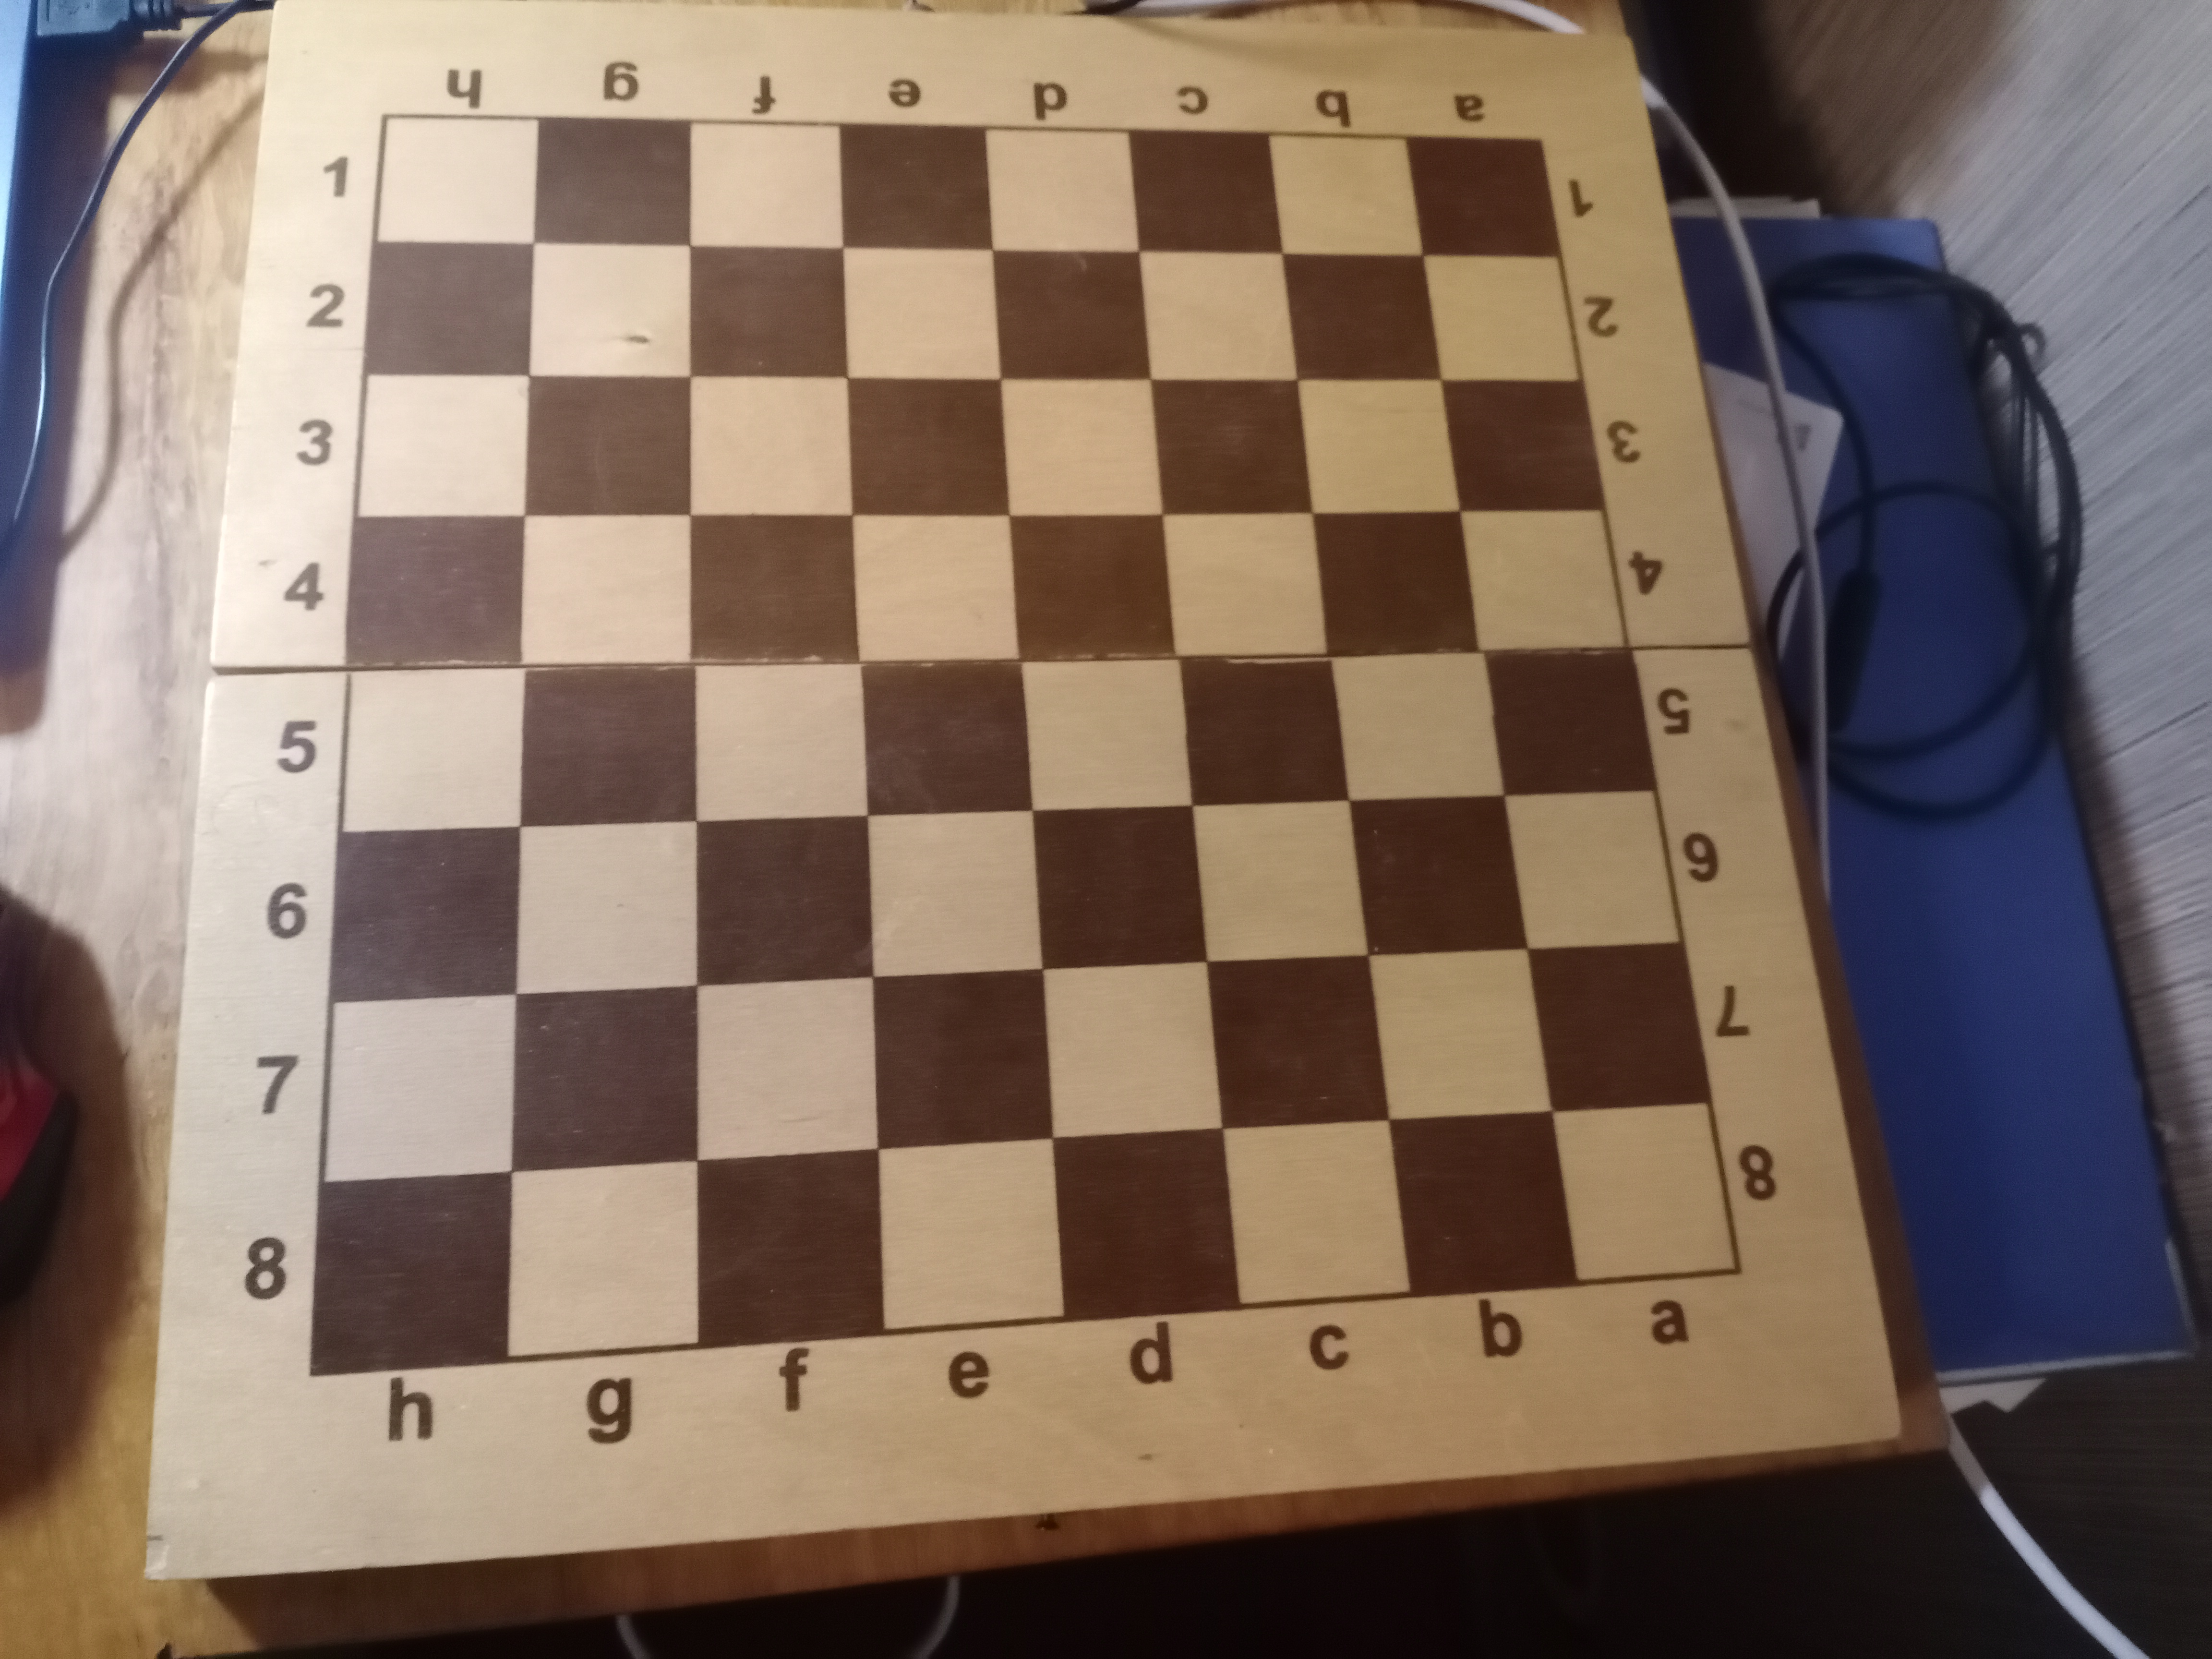Empty_White_Cell: (507, 1162, 697, 1361), (878, 1138, 1064, 1331), (322, 995, 514, 1182), (1224, 1121, 1409, 1305), (697, 976, 878, 1157), (1550, 1103, 1737, 1279), (1043, 962, 1226, 1138), (1367, 948, 1552, 1122), (516, 823, 697, 993), (341, 667, 526, 831), (867, 810, 1043, 974), (695, 664, 869, 824), (1327, 652, 1510, 802), (1021, 659, 1193, 810), (523, 514, 691, 667), (852, 514, 1019, 660), (359, 373, 528, 518), (1460, 511, 1630, 650), (1163, 514, 1327, 659), (690, 375, 852, 516), (1000, 378, 1165, 516), (1296, 378, 1461, 512), (529, 242, 691, 378), (841, 247, 1001, 380), (1137, 251, 1298, 380), (378, 117, 538, 244), (690, 122, 843, 249), (1421, 254, 1578, 378), (982, 129, 1139, 251), (1271, 136, 1423, 256)
